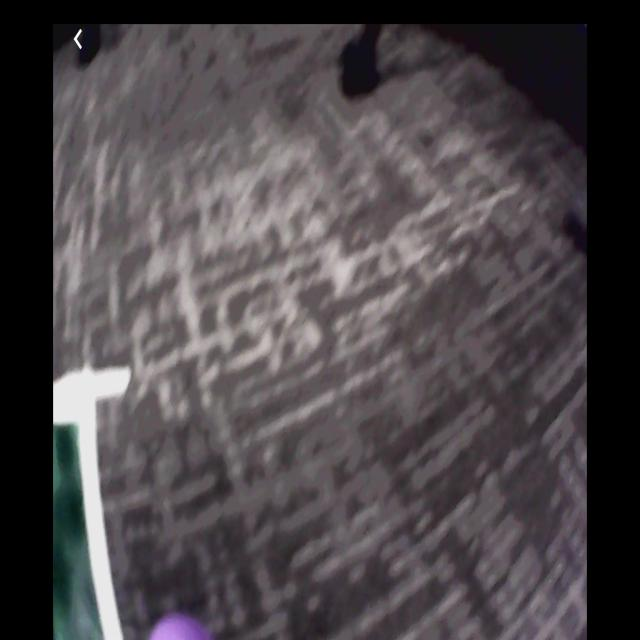ball: (148, 612, 215, 639)
